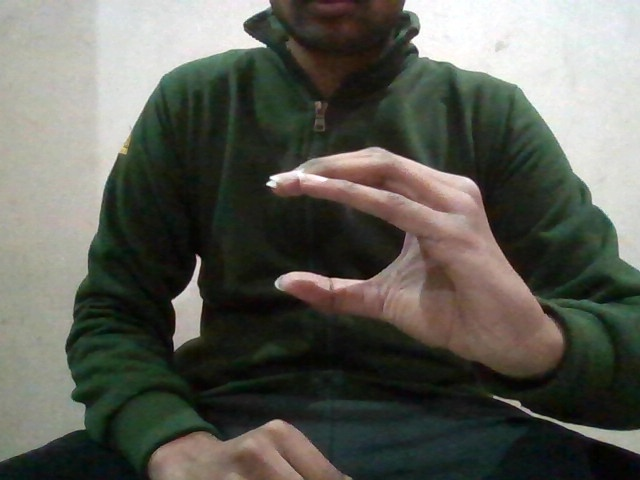C: (257, 144, 539, 336)
